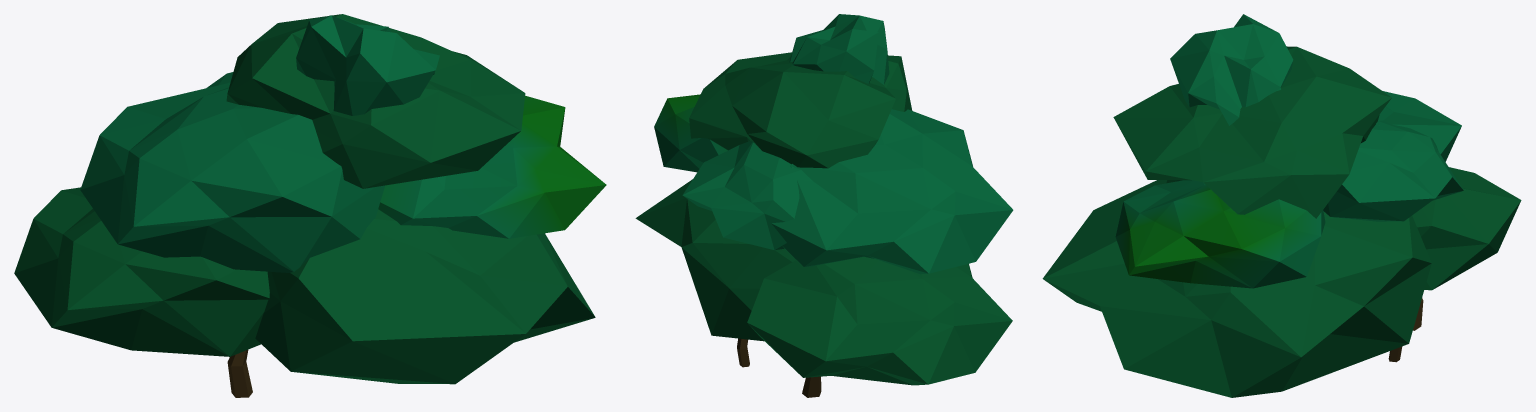
The picture shows the model from 3 angles, left to right: view 1: azimuth 30°, elevation 25°; view 2: azimuth 150°, elevation 25°; view 3: azimuth 270°, elevation 25°; orthographic projection. The views are drawn at different scales.
Parts seen in each view (by area): view 1: Icosphere, Icosphere.004, Icosphere.003, Icosphere.001, Icosphere.002, Icosphere.006, Cylinder.002; view 2: Icosphere.003, Icosphere.004, Icosphere.001, Icosphere, Icosphere.005, Icosphere.006, Icosphere.002, Cylinder.003; view 3: Icosphere, Icosphere.001, Icosphere.002, Icosphere.005, Icosphere.006, Icosphere.003, Icosphere.004.
Part boxes in pixels (x1,y1,x2,y2): Icosphere: (255,209,595,384); Icosphere.004: (80,83,385,272); Icosphere.003: (14,187,269,356); Icosphere.001: (226,14,525,188); Icosphere.002: (378,95,606,238); Icosphere.006: (296,15,439,115); Cylinder.002: (227,350,252,397); Icosphere.003: (747,257,1012,385); Icosphere.004: (771,109,1013,274); Icosphere.001: (689,52,912,168); Icosphere: (635,179,795,341); Icosphere.005: (682,141,812,250); Icosphere.006: (789,14,889,84); Icosphere.002: (654,94,727,172); Cylinder.003: (802,376,821,397); Icosphere: (1042,180,1431,397); Icosphere.001: (1113,46,1391,218); Icosphere.002: (1115,180,1325,288); Icosphere.005: (1323,120,1463,221); Icosphere.006: (1170,14,1293,125); Icosphere.003: (1412,167,1521,290); Icosphere.004: (1176,91,1461,181).
Bounding box in the file's own units: 290 × 217 × 295.
